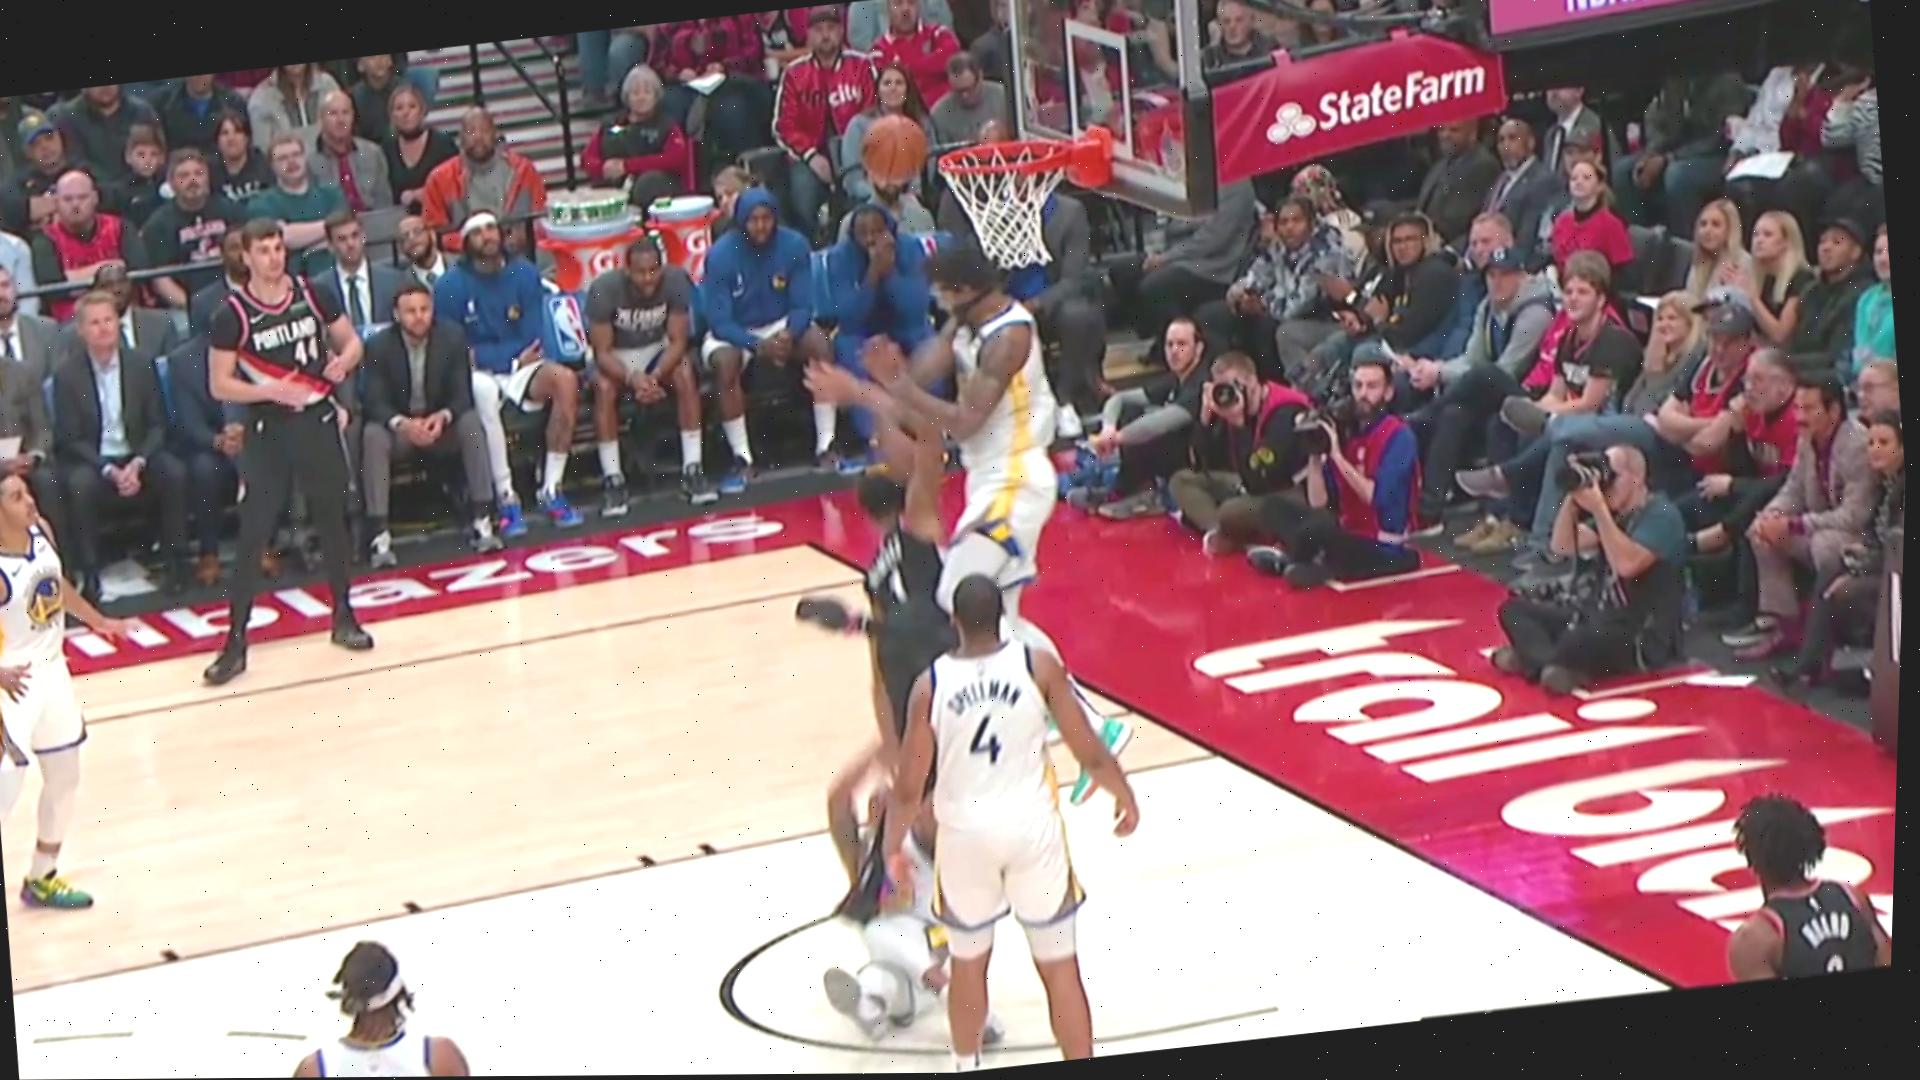no_foul: (815, 744, 981, 1034)
